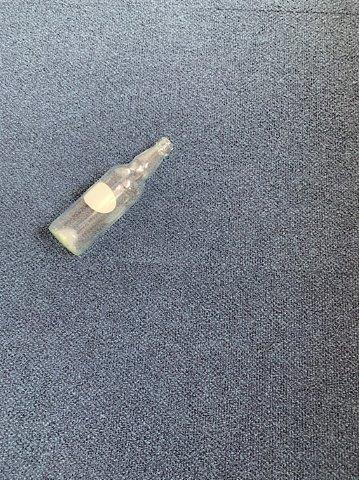botolkaca: (50, 137, 174, 257)
